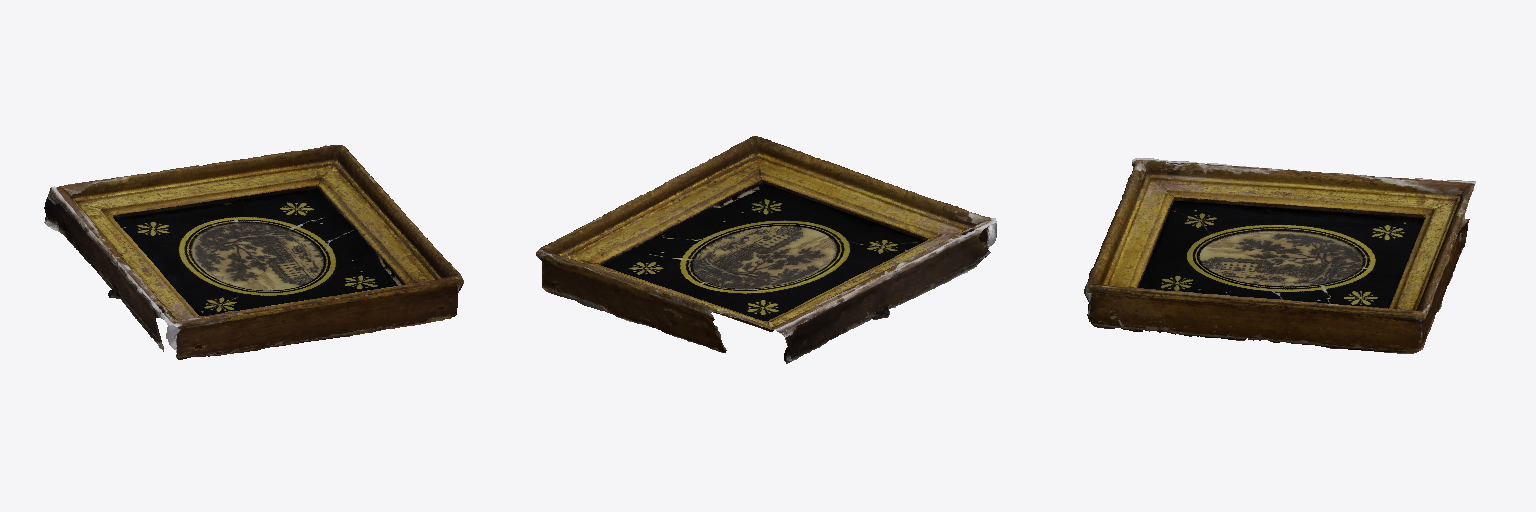
3 renders of one model, left to right at view 1: azimuth 30°, elevation 25°; view 2: azimuth 150°, elevation 25°; view 3: azimuth 270°, elevation 25°, orthographic.
Bounding box in the file's own units: 22.97 × 3.3 × 24.3.
Materials: 1 (1 with a texture image).